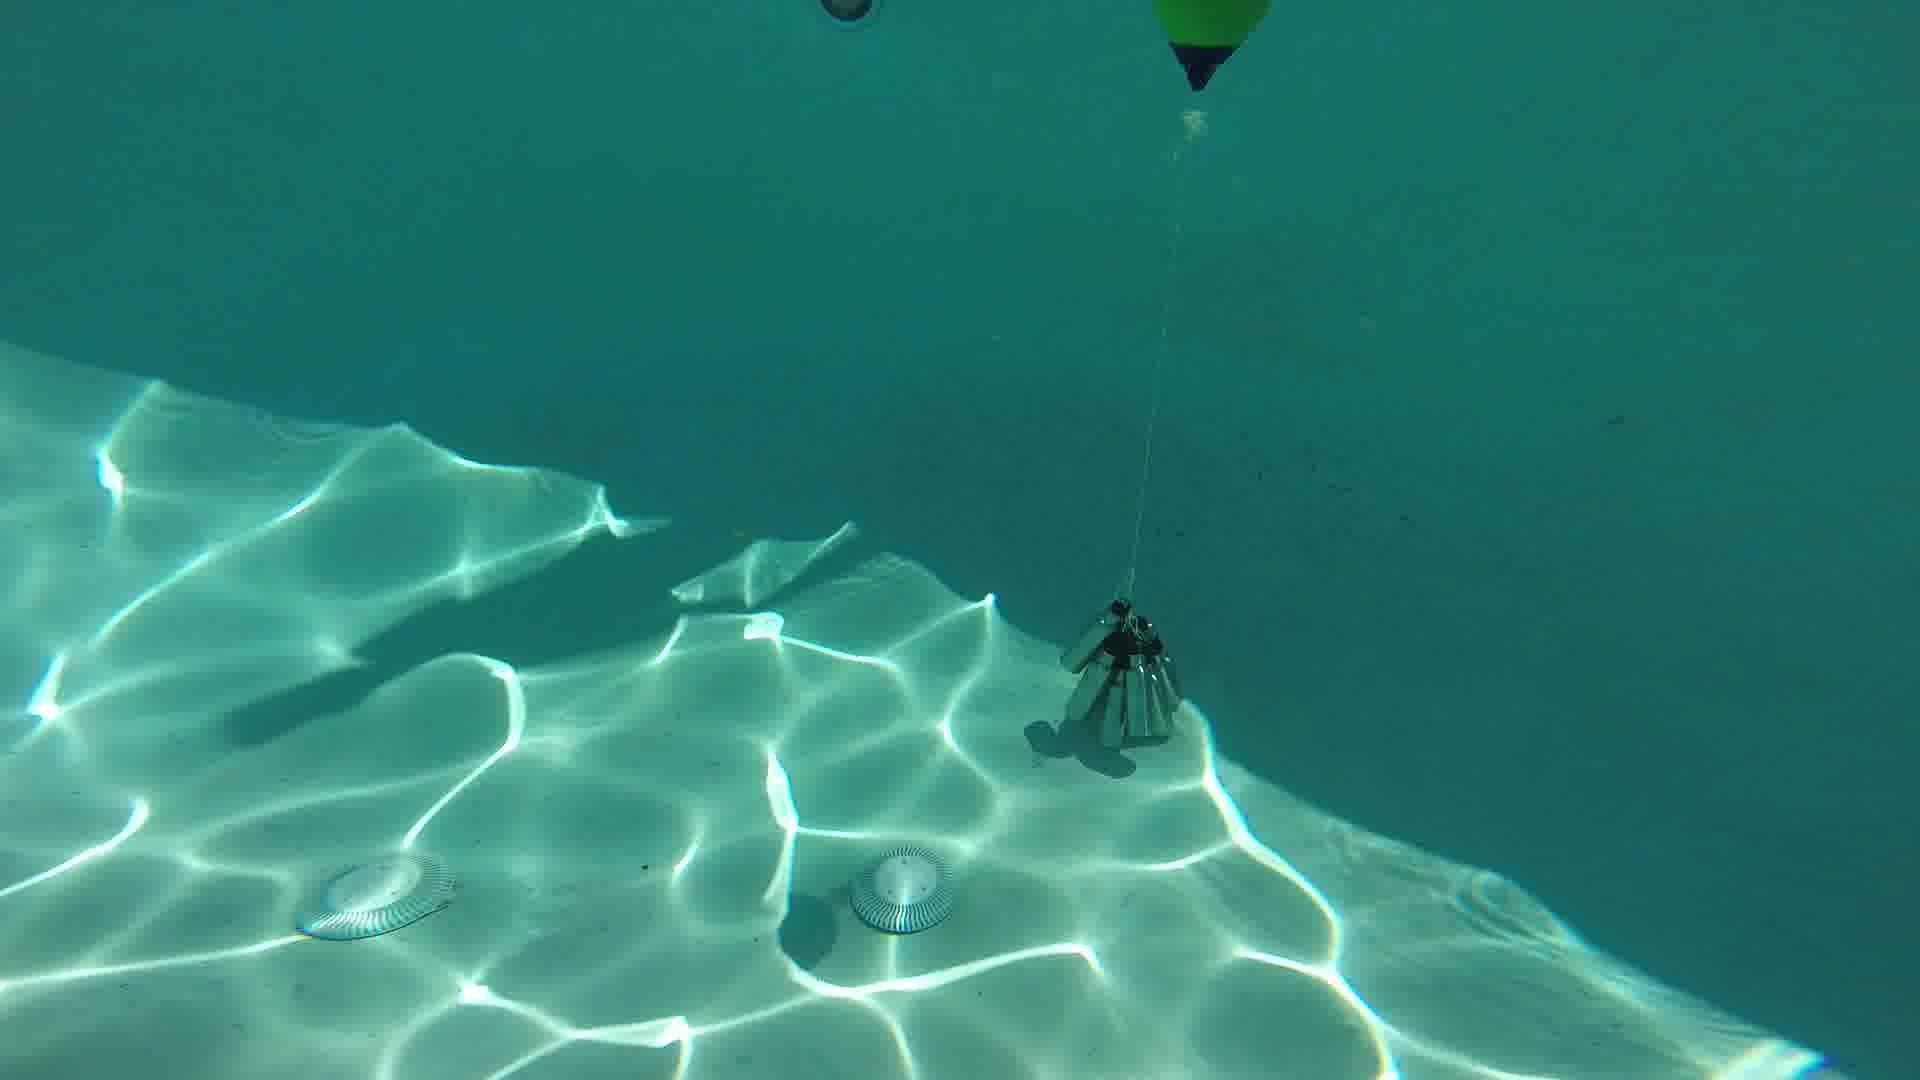yellow_buoy: (1149, 1, 1279, 145)
